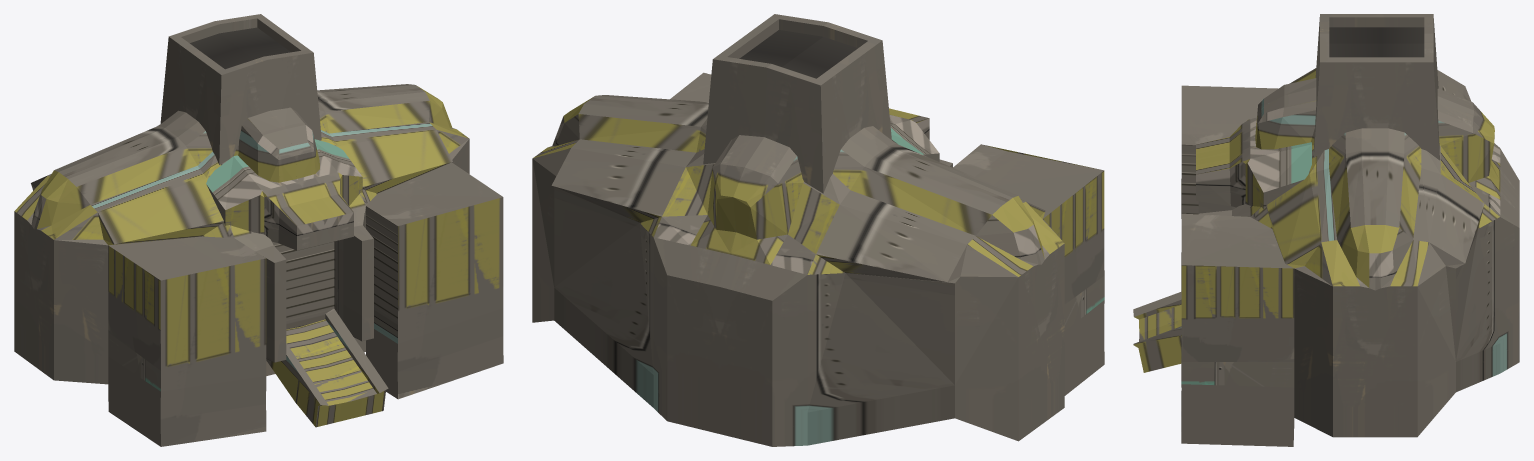
Rendered from refinery.dae.
3 renders of one model, left to right at view 1: azimuth 30°, elevation 25°; view 2: azimuth 150°, elevation 25°; view 3: azimuth 270°, elevation 25°, orthographic. The views are drawn at different scales.
Parts seen in each view (by area): view 1: human_usine; view 2: human_usine; view 3: human_usine.
Boxes of the visible parts, x1,y1,x2,y2 form: human_usine: (14,14,503,446); human_usine: (532,14,1104,446); human_usine: (1133,14,1519,446).
Bounding box in the file's own units: 25.38 × 19.03 × 18.17.
